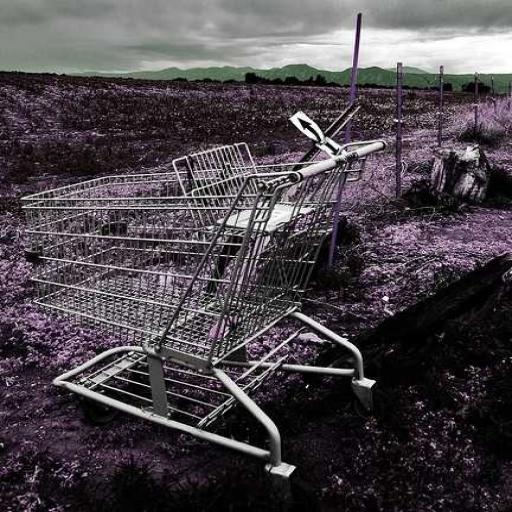shopping_cart: (21, 132, 392, 486)
